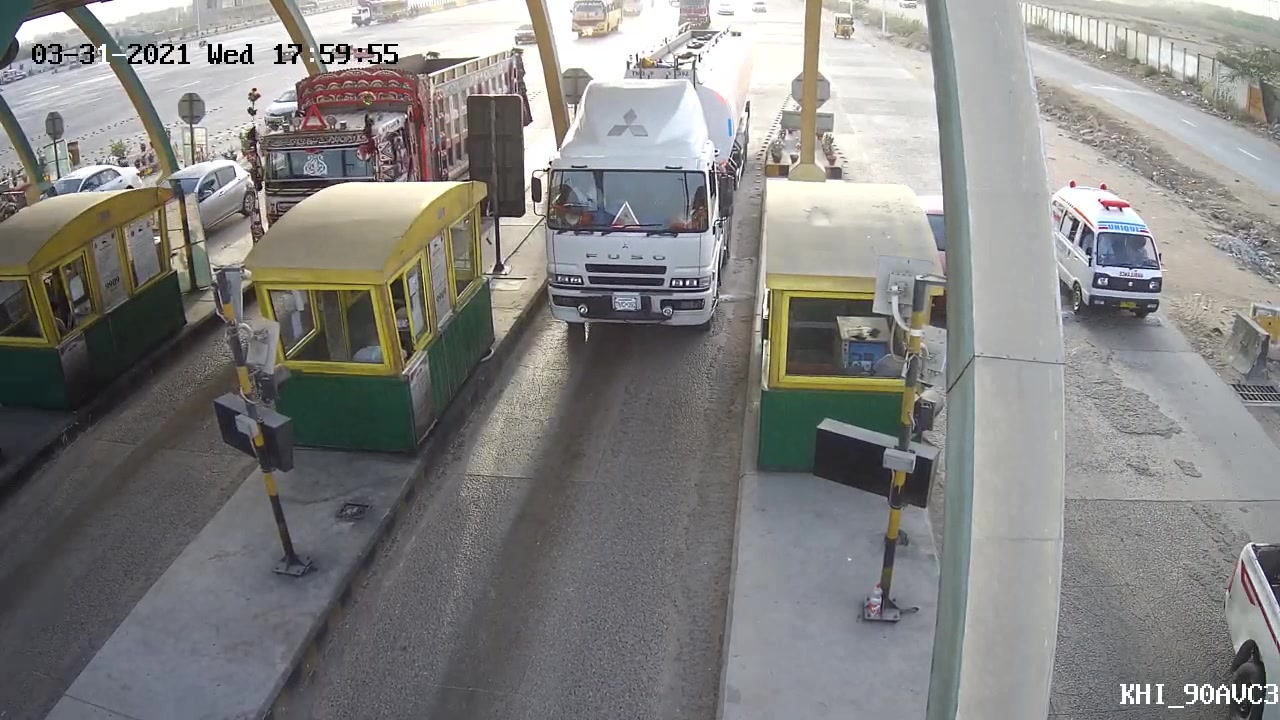F6: (522, 42, 754, 337)
